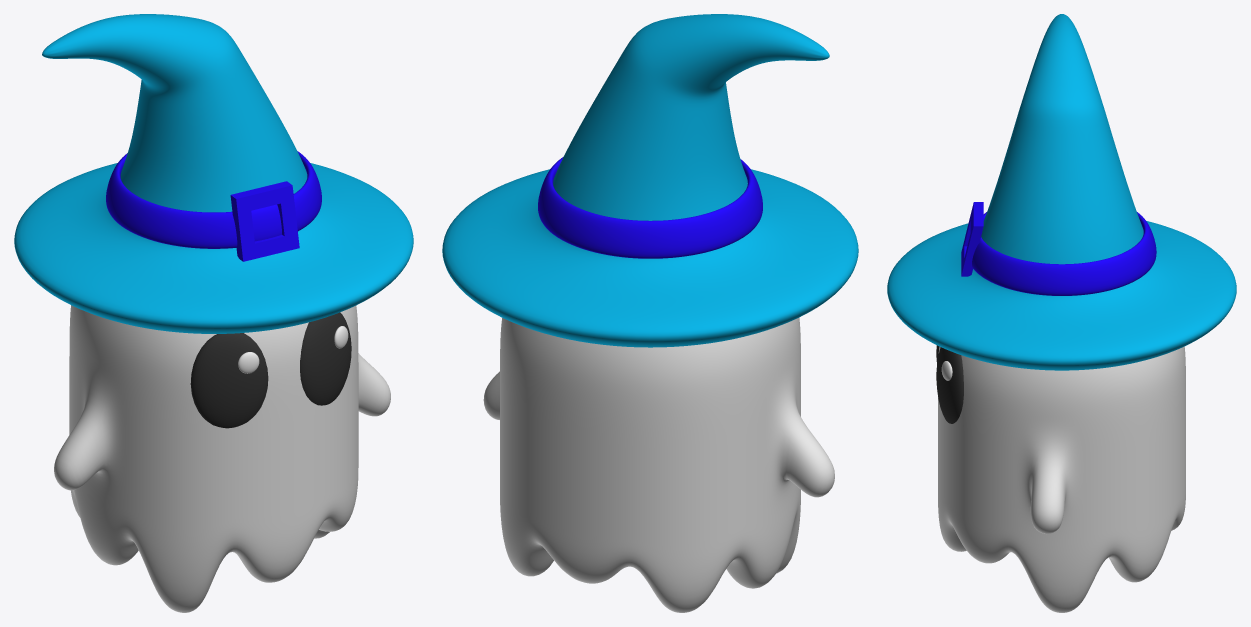
Rendered from enemigo3.fbx.
The picture shows the model from 3 angles, left to right: view 1: azimuth 30°, elevation 25°; view 2: azimuth 150°, elevation 25°; view 3: azimuth 270°, elevation 25°; orthographic projection. The views are drawn at different scales.
Parts seen in each view (by area): view 1: hat, ghost, eyes, Cylinder.001, Plane; view 2: hat, ghost, Cylinder.001; view 3: hat, ghost, Cylinder.001, eyes, Plane.
Part boxes in pixels (box(x1,y1,x2,y2)): hat: box(14, 14, 413, 333); ghost: box(54, 305, 390, 612); eyes: box(190, 312, 351, 428); Cylinder.001: box(106, 151, 321, 248); Plane: box(230, 181, 299, 261); hat: box(442, 14, 858, 347); ghost: box(483, 318, 834, 612); Cylinder.001: box(538, 157, 762, 258); hat: box(887, 14, 1236, 370); ghost: box(938, 346, 1185, 612); Cylinder.001: box(972, 212, 1156, 295); eyes: box(936, 345, 963, 423); Plane: box(961, 202, 983, 276).
Size of the model in its own units: 235 by 369 by 235.
